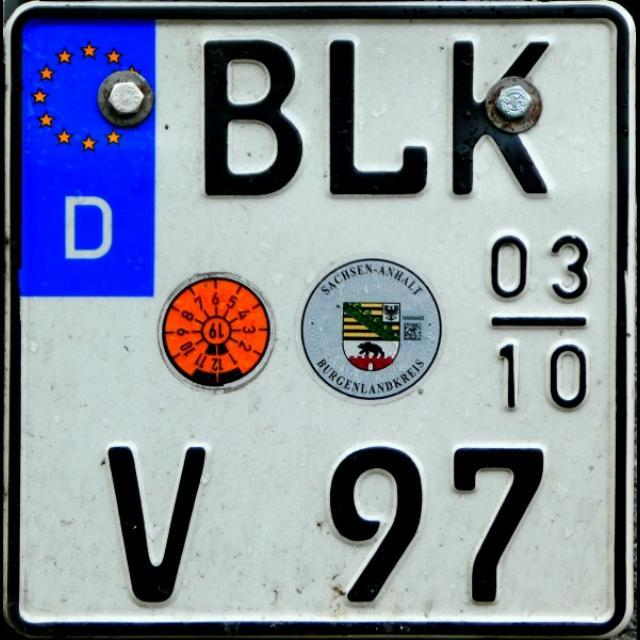license-plates: (4, 2, 636, 638)
